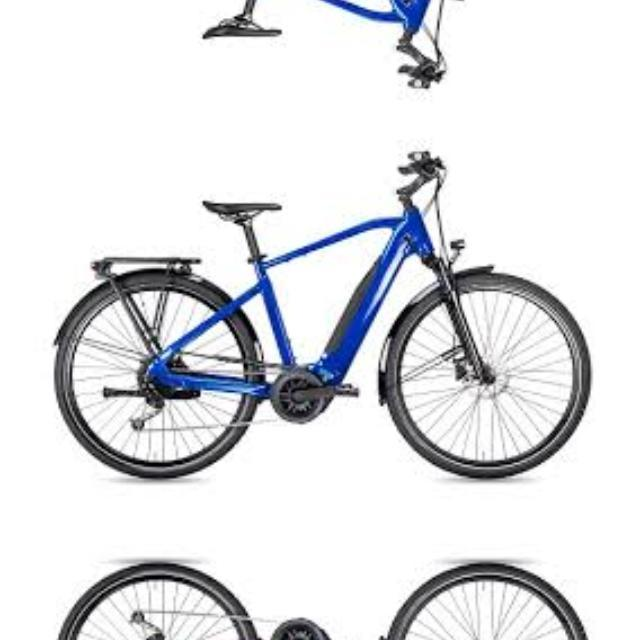obstacle: (36, 132, 592, 500), (36, 0, 592, 106), (36, 541, 592, 640)
